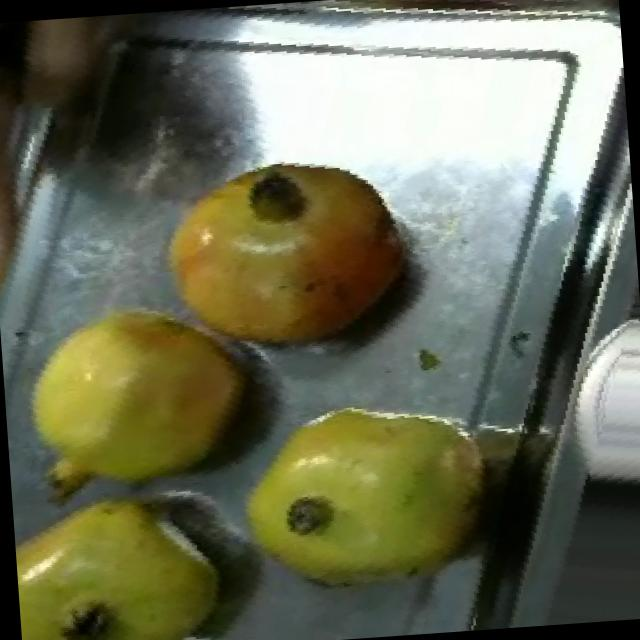fruit: (138, 125, 442, 388), (202, 360, 482, 632), (0, 267, 286, 529)
